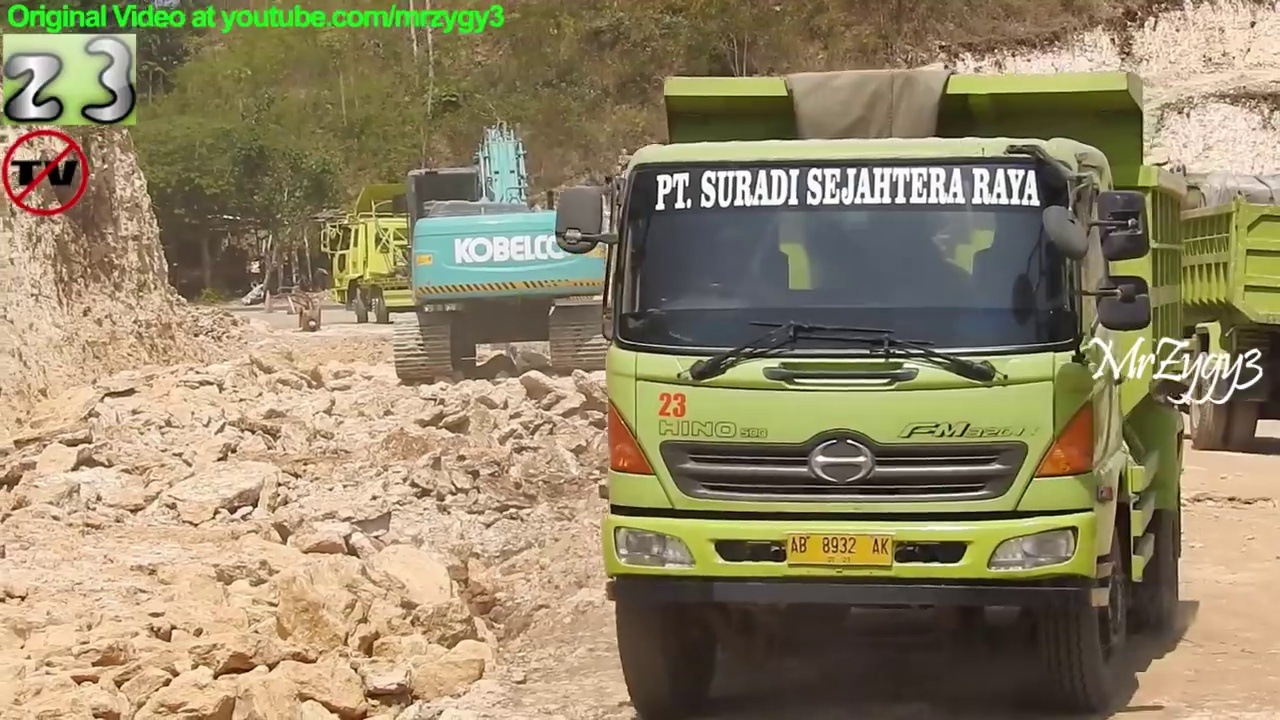excavator: (389, 113, 624, 388)
truck: (554, 65, 1199, 720), (1093, 165, 1280, 459), (309, 174, 626, 326)
